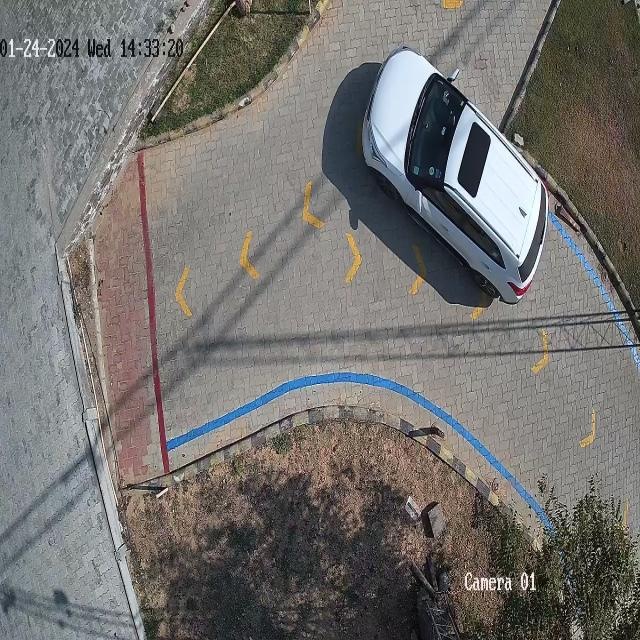car: (362, 47, 549, 303)
